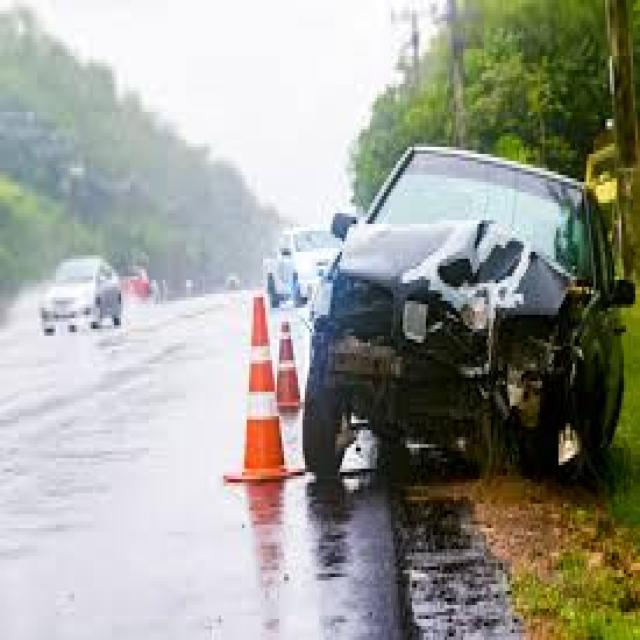Accident: (300, 129, 630, 506)
